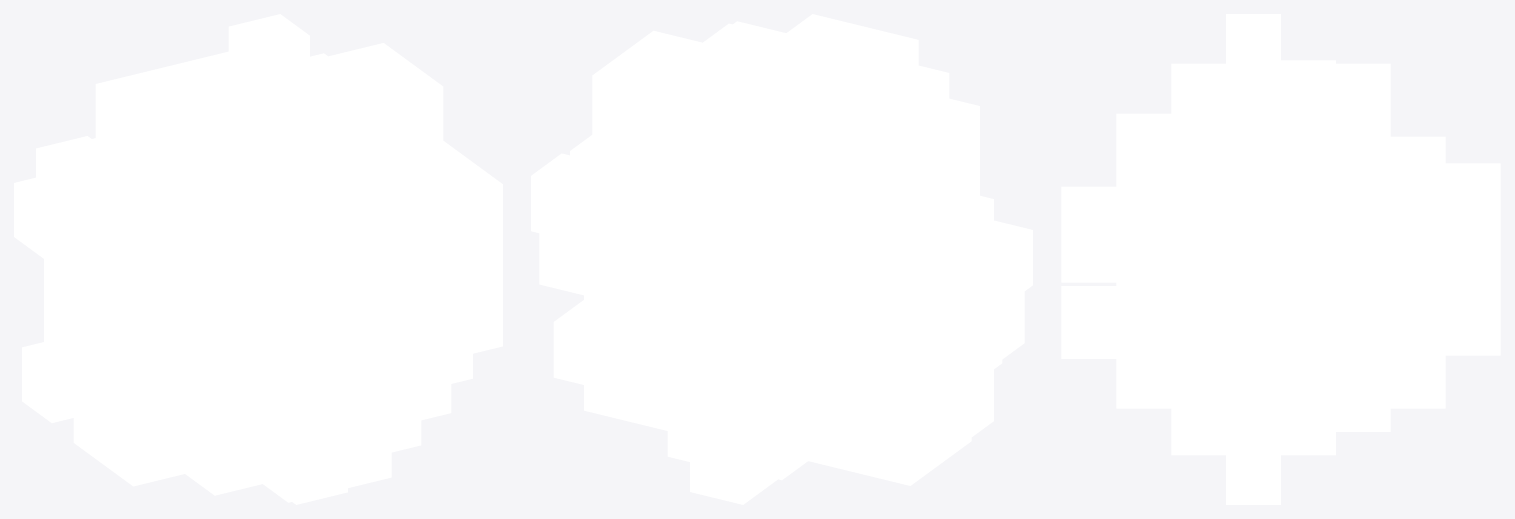
File: cm_puff_y.glb
The picture shows the model from 3 angles, left to right: view 1: azimuth 30°, elevation 25°; view 2: azimuth 150°, elevation 25°; view 3: azimuth 270°, elevation 25°; orthographic projection. The views are drawn at different scales.
Visible parts, largest first — view 1: cm_puff_y_body; view 2: cm_puff_y_body; view 3: cm_puff_y_body.
Boxes of the visible parts, x1,y1,x2,y2 form: cm_puff_y_body: (14,14,502,504); cm_puff_y_body: (531,14,1032,504); cm_puff_y_body: (1061,14,1500,504).
Bounding box in the file's own units: 1 × 1 × 1.
Materials: 1 (1 with a texture image).
